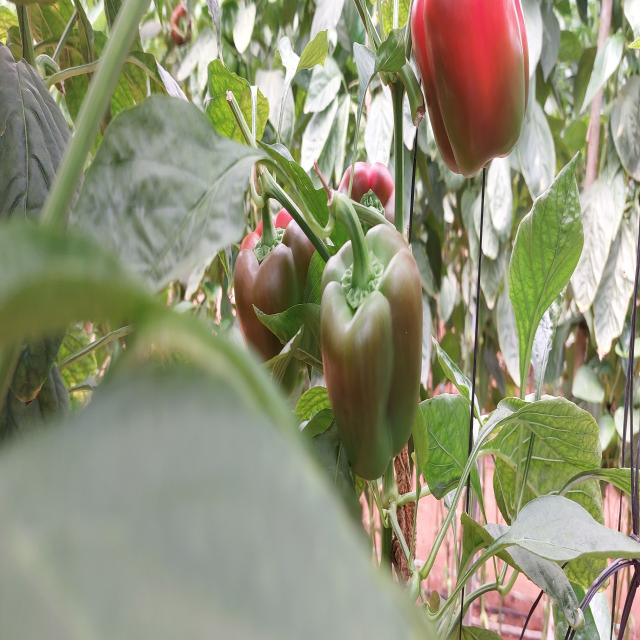BrownishRed--Can-be-Harvested: (316, 227, 431, 488), (409, 0, 553, 193), (211, 187, 320, 387)
